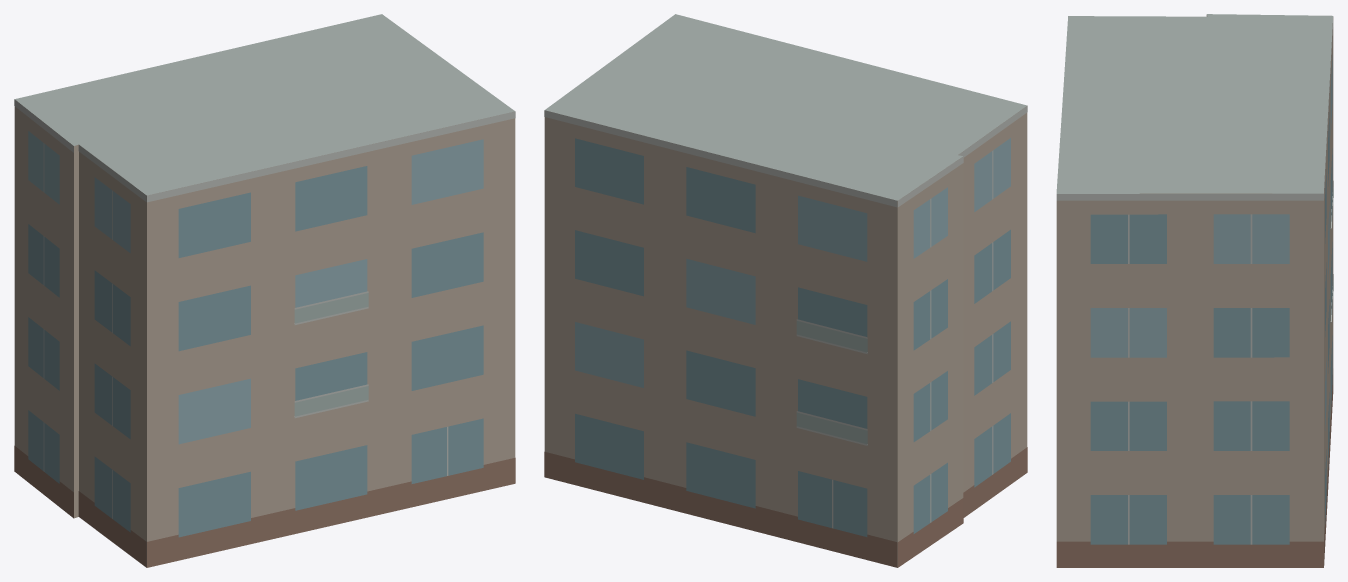
The model's file is survey-upis-32598733.glb.
3 renders of one model, left to right at view 1: azimuth 30°, elevation 25°; view 2: azimuth 150°, elevation 25°; view 3: azimuth 270°, elevation 25°, orthographic.
Visible parts, largest first — view 1: survey-upis-32598733.tmp; view 2: survey-upis-32598733.tmp; view 3: survey-upis-32598733.tmp.
Boxes of the visible parts, x1,y1,x2,y2 form: survey-upis-32598733.tmp: [14, 14, 515, 567]; survey-upis-32598733.tmp: [544, 14, 1027, 567]; survey-upis-32598733.tmp: [1056, 14, 1333, 567].
Bounding box in the file's own units: 13.62 × 13.2 × 8.87.
